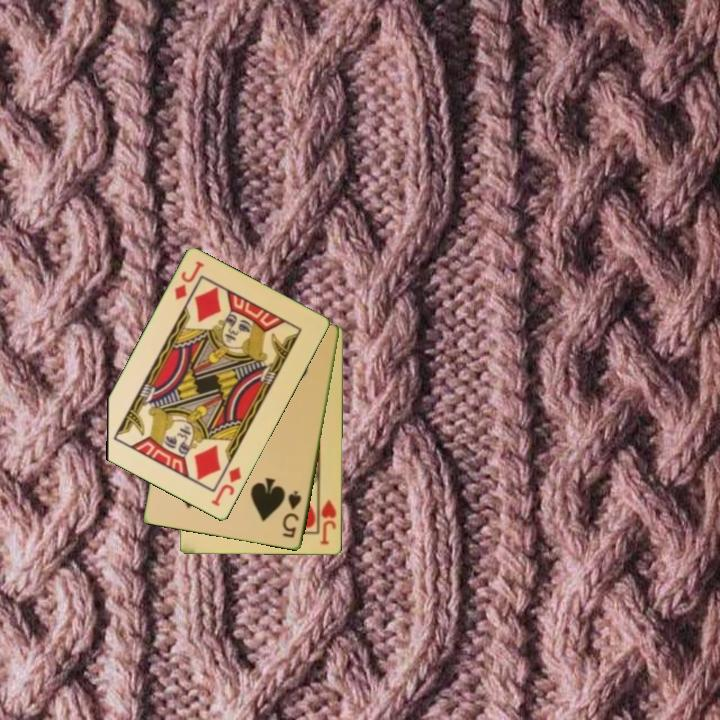5s: (279, 487, 304, 541)
Jd: (208, 464, 244, 510), (171, 258, 207, 303)
Jh: (315, 492, 340, 548)
